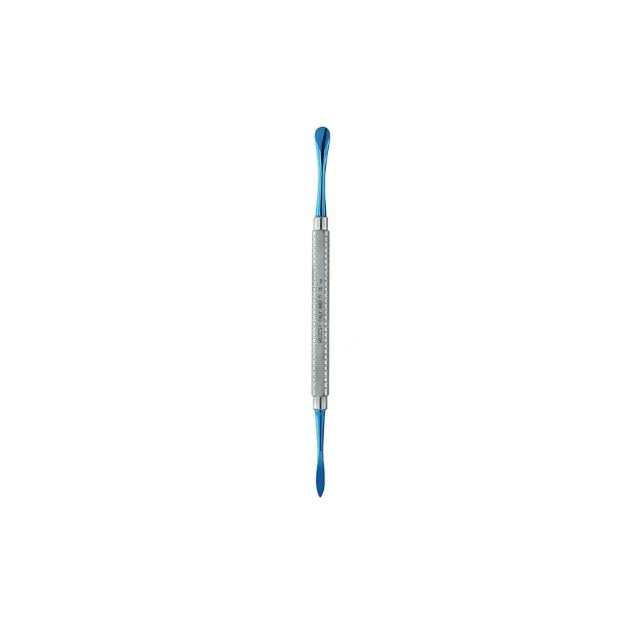elevador: (309, 124, 334, 502)
